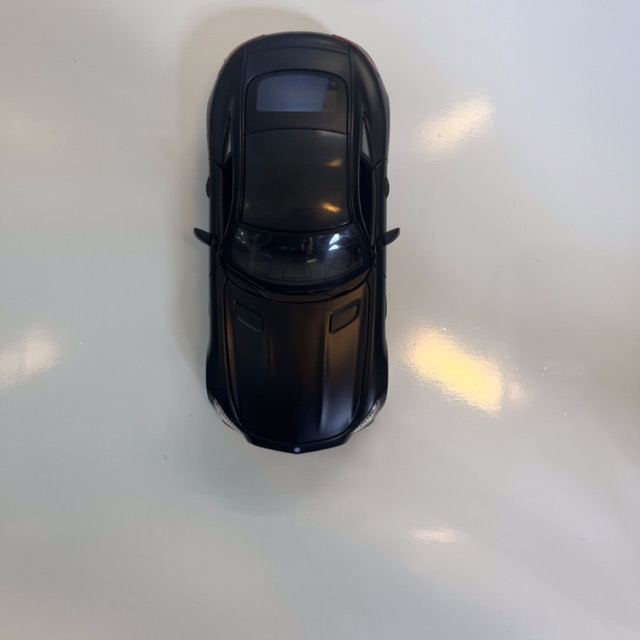car: (193, 32, 402, 454)
